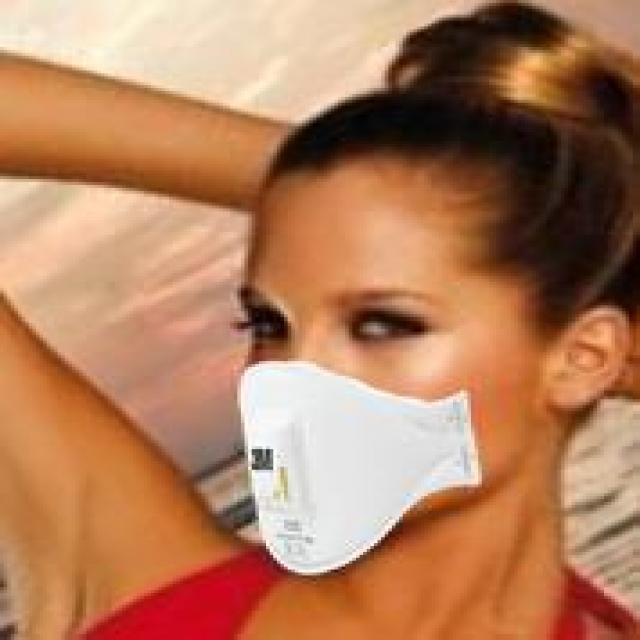mask: (137, 79, 600, 567)
